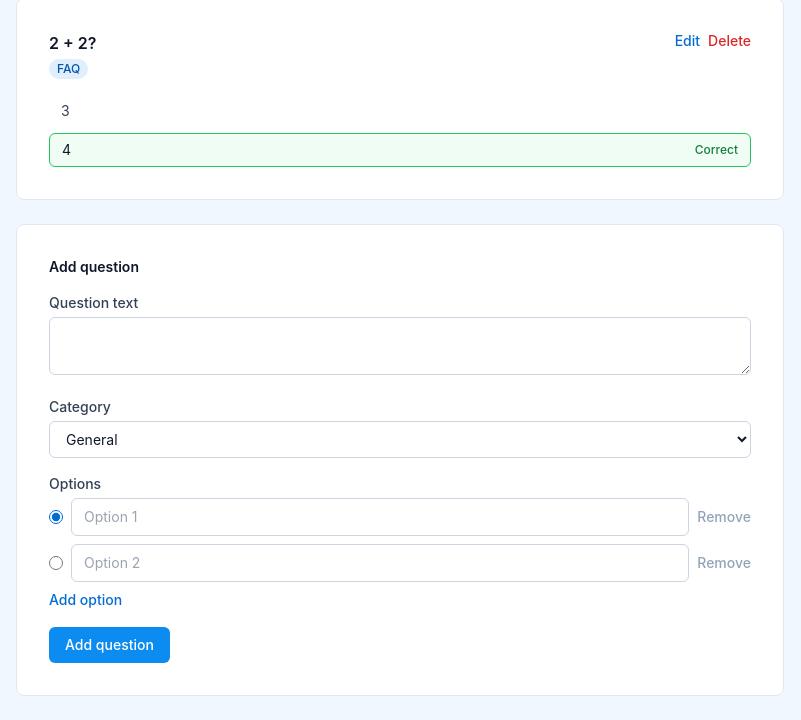
Test: AdminQuestions › should_enforce_minimum_two_options_when_adding
(page scrolled)
Expected: the button with aria-label "Remove option 1" is disabled, [697,507,751,527]
Expected: the button with aria-label "Remove option 2" is disabled, [697,553,751,573]
Click the button "Add option": (86, 600) [49,590,122,610]
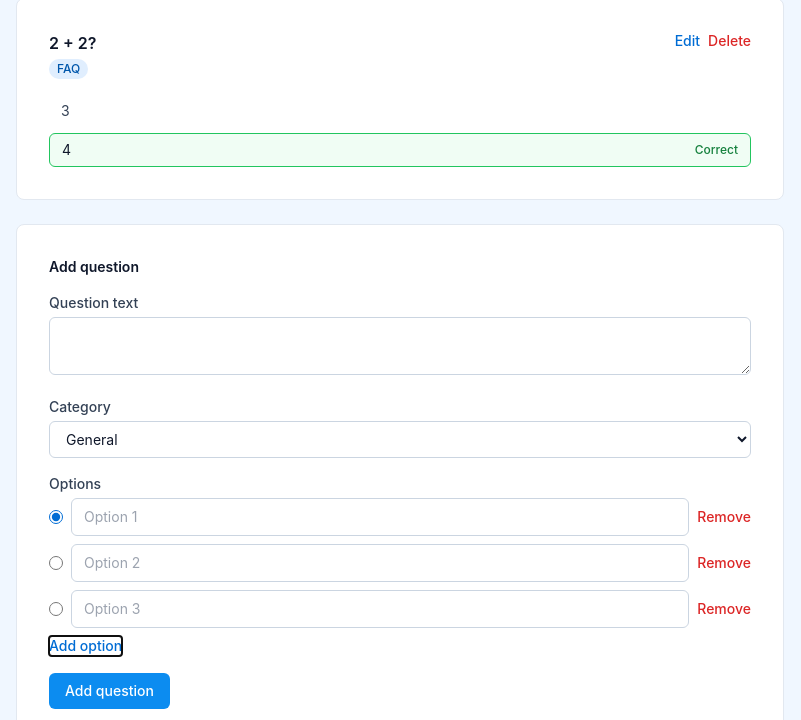
Click the button with aria-label "Remove option 3": (724, 609) [697,599,751,619]
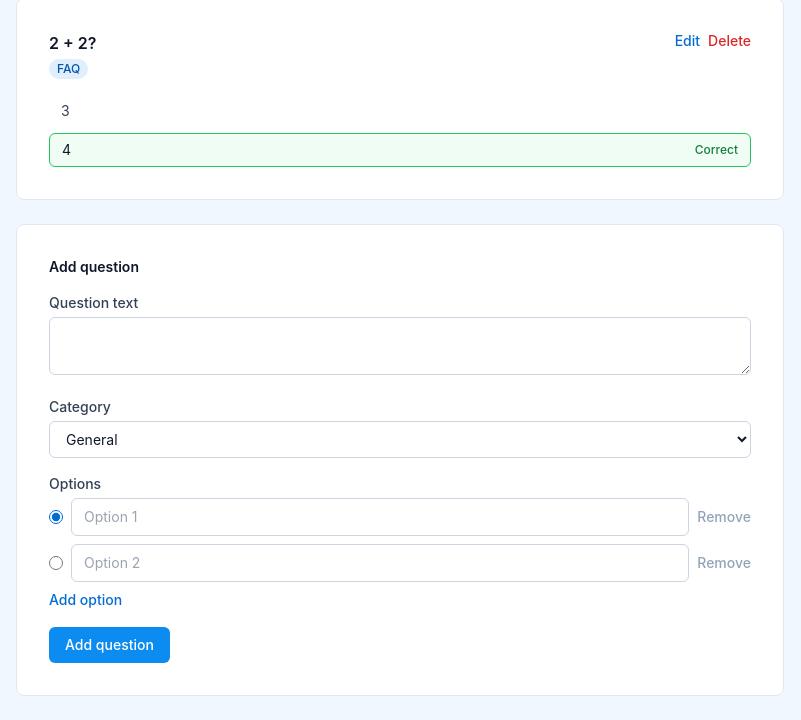
In the text box labelled "Question text": (400, 346) [49,317,751,375], type "New?"
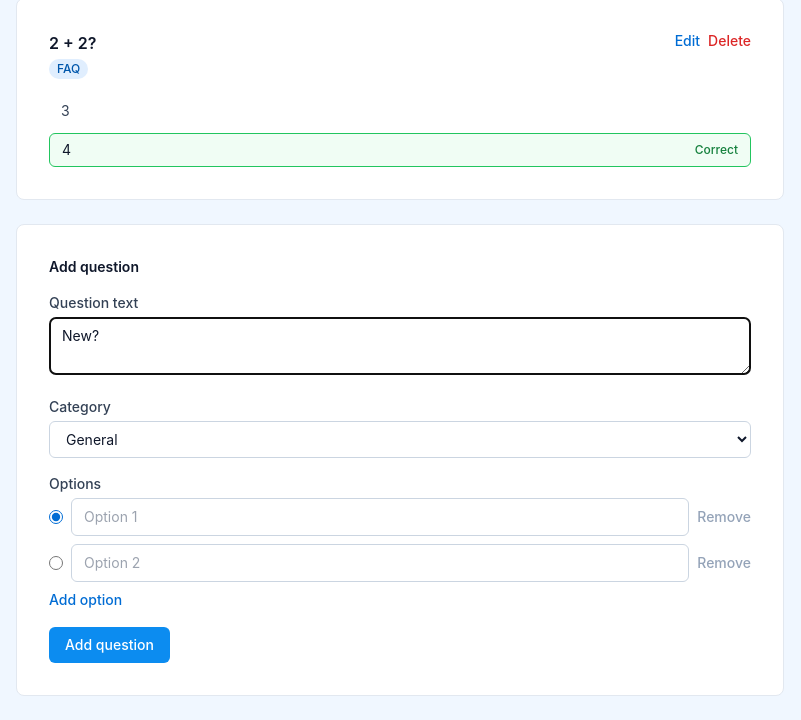
Click the button "Add question": (109, 645) [49,627,170,663]
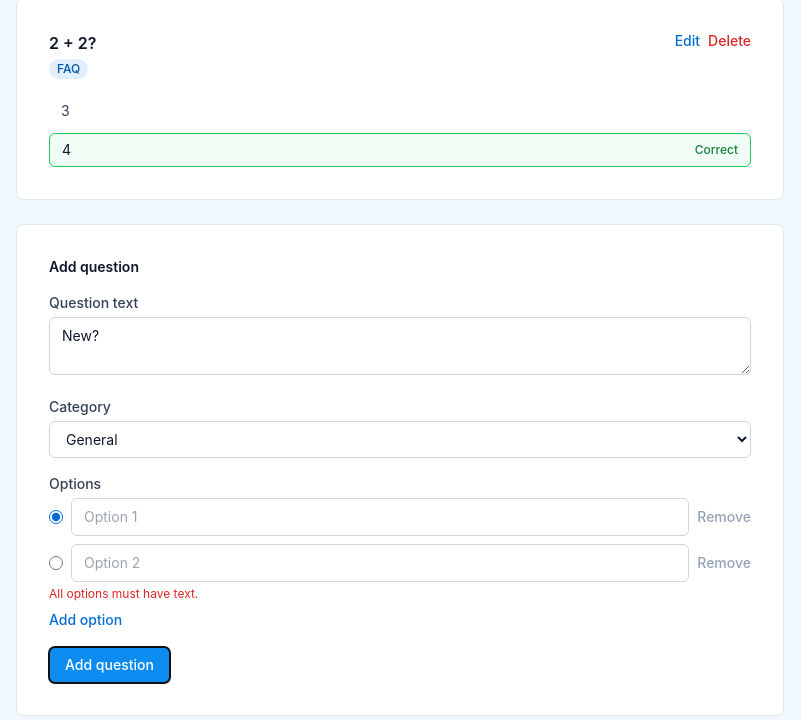
Result: the text "All options must have text." is shown at [49,586,198,601]
